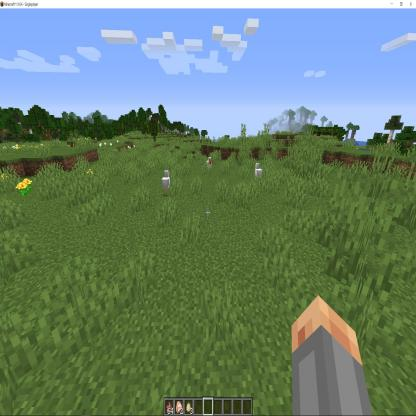minecraft-pigs: (253, 162, 264, 184), (162, 167, 170, 196), (206, 154, 212, 174)
